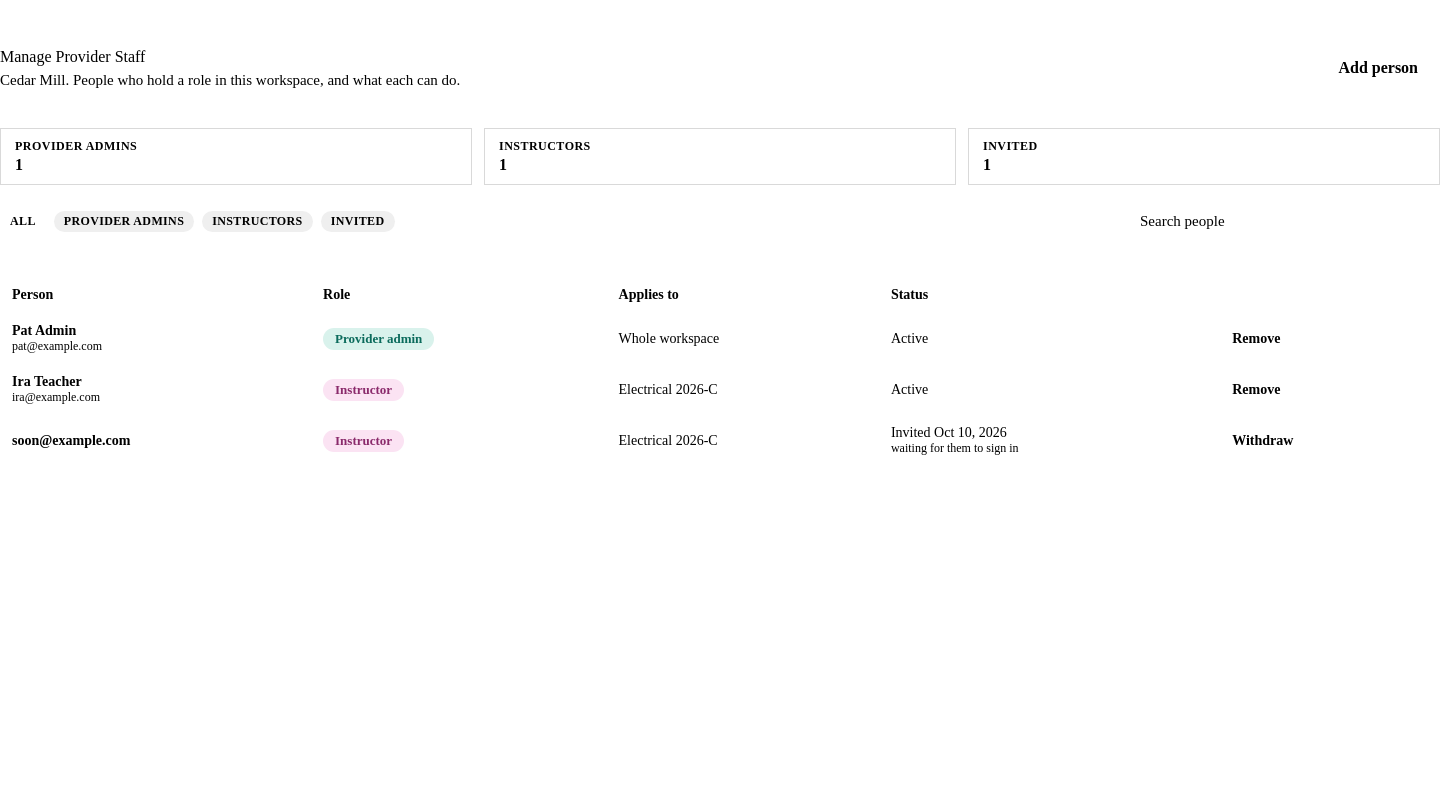
MembersPage › says plainly when the person was invited, and the message can be dismissed
Click the button "Add person": (1378, 68) [1316, 48, 1439, 88]
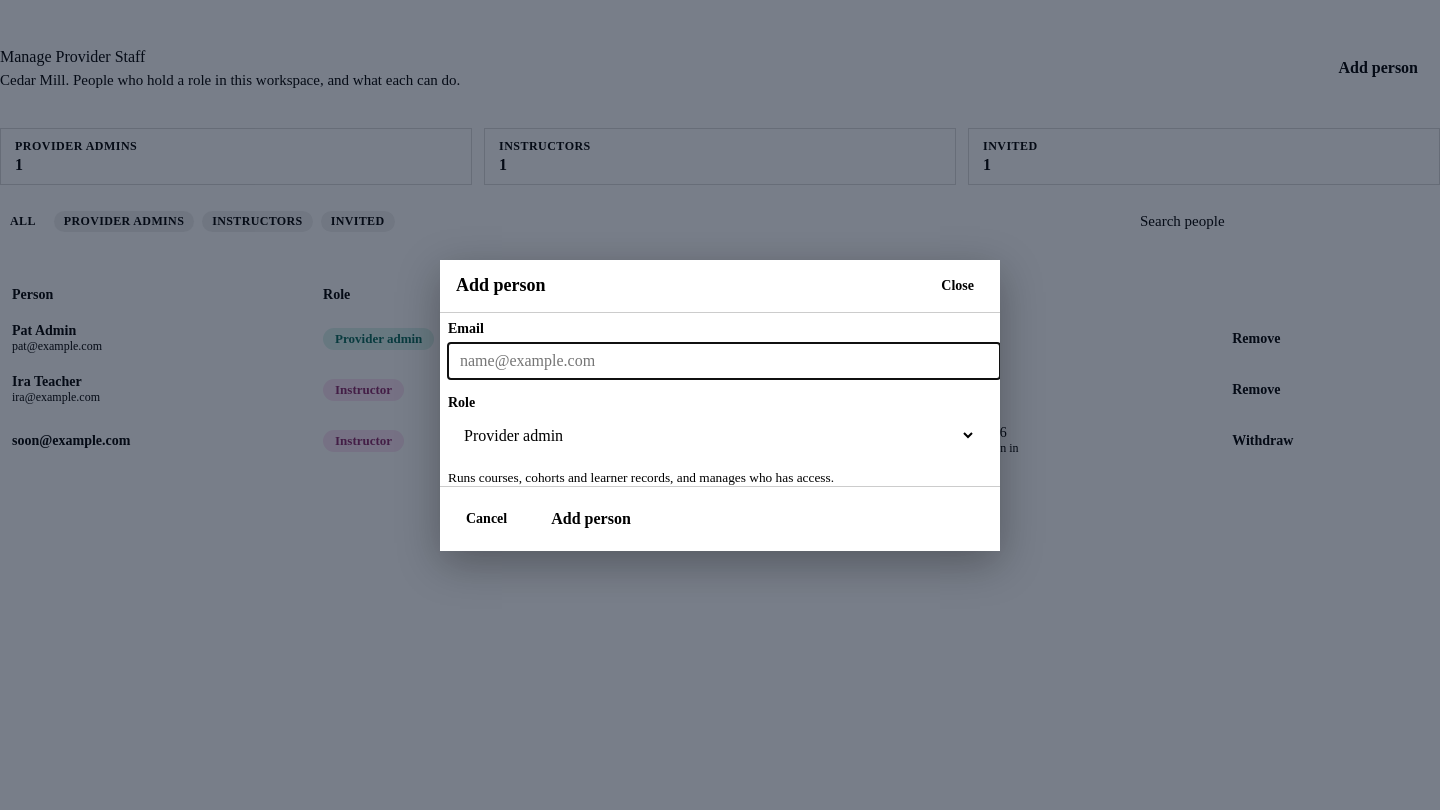
In the field labelled "Email": (724, 360) [448, 342, 1000, 378], type "b@example.com"
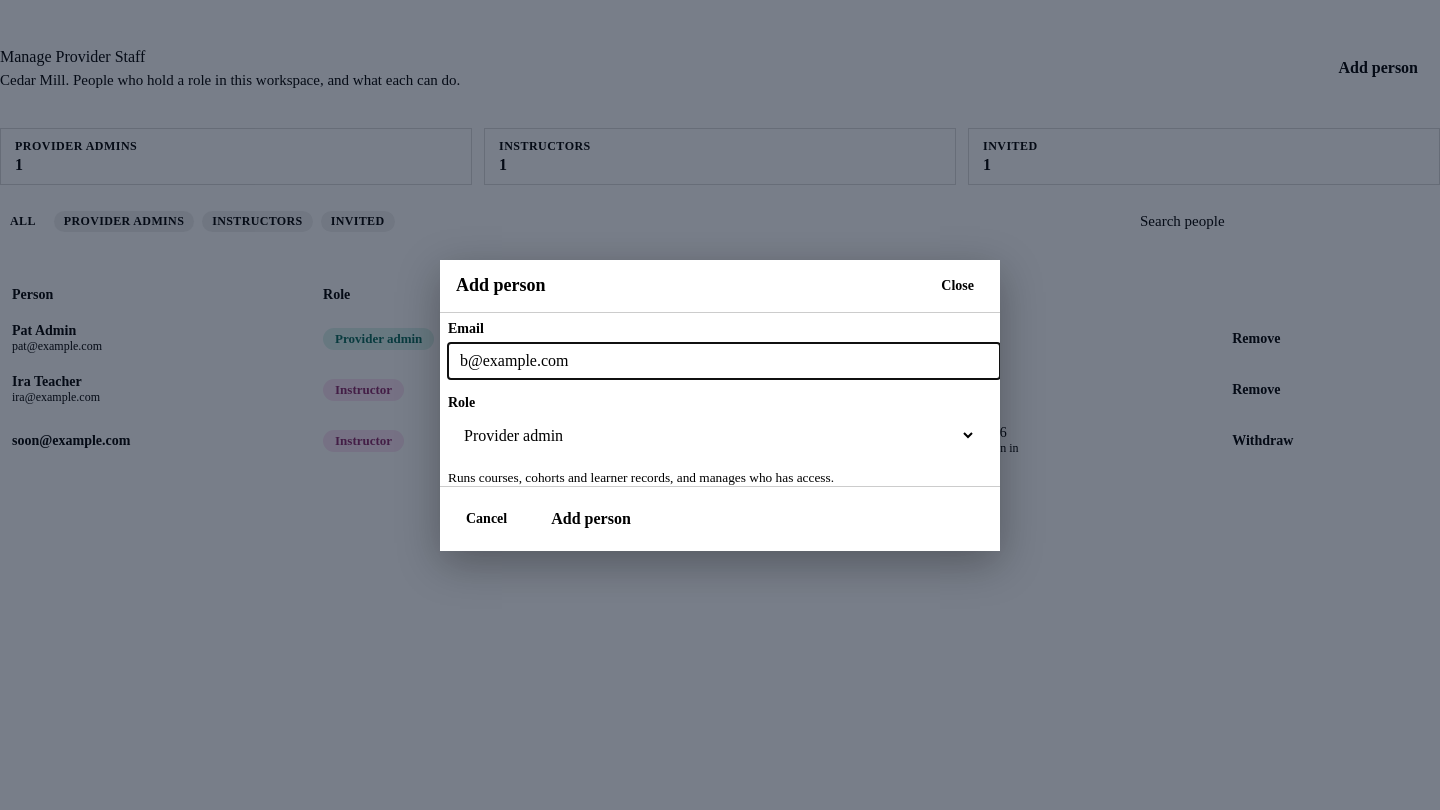
Click the button "Add person": (591, 518) [529, 498, 653, 538]
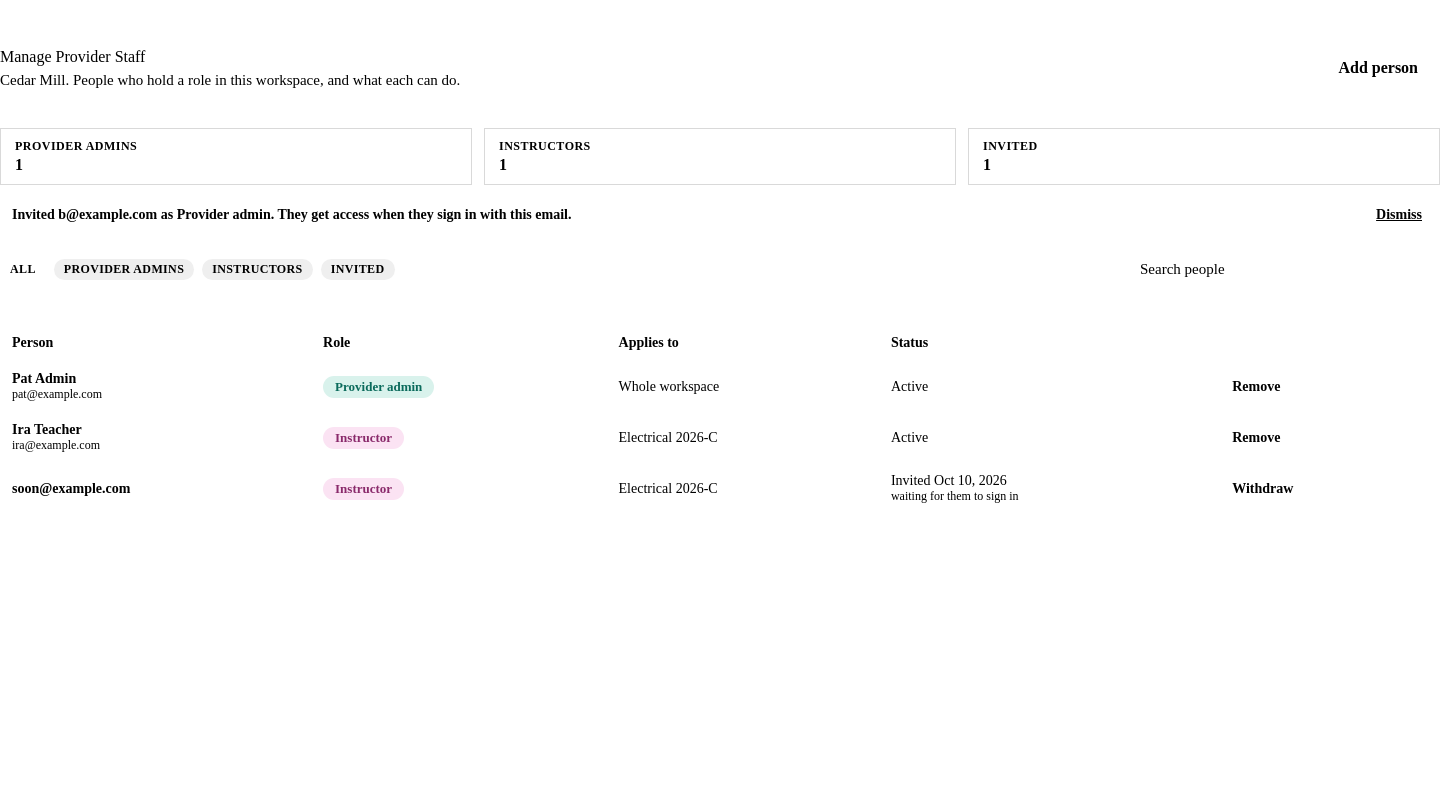
expect the message shows "Invited b@example.com as Provider admin. They get access when they sign in with this email.": met, box [12, 207, 571, 222]
Click the button "Dismiss": (1399, 215) [1370, 203, 1428, 227]
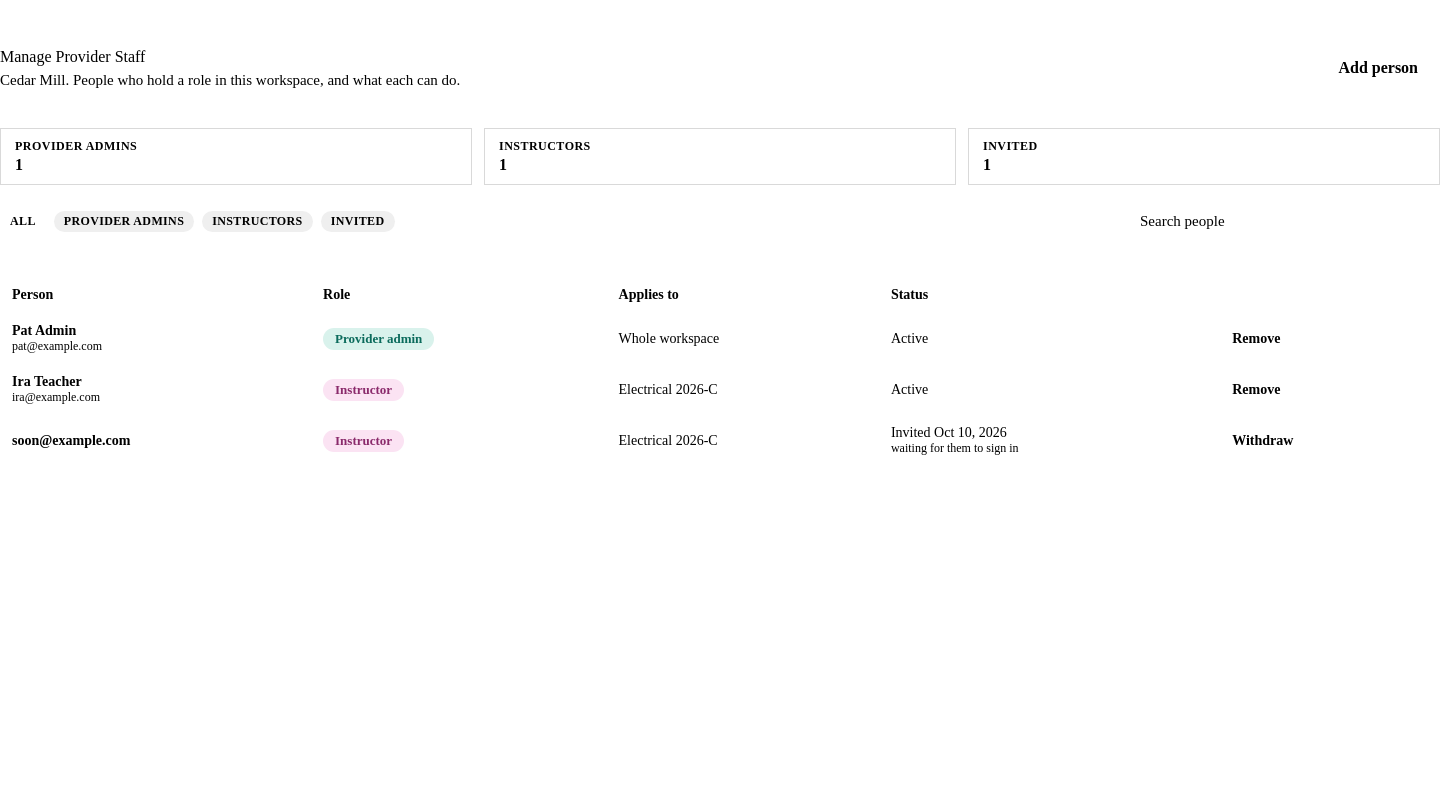
expect the message "Invited b@example.com as Provider admin. They get access when they sign in with" is gone: met
